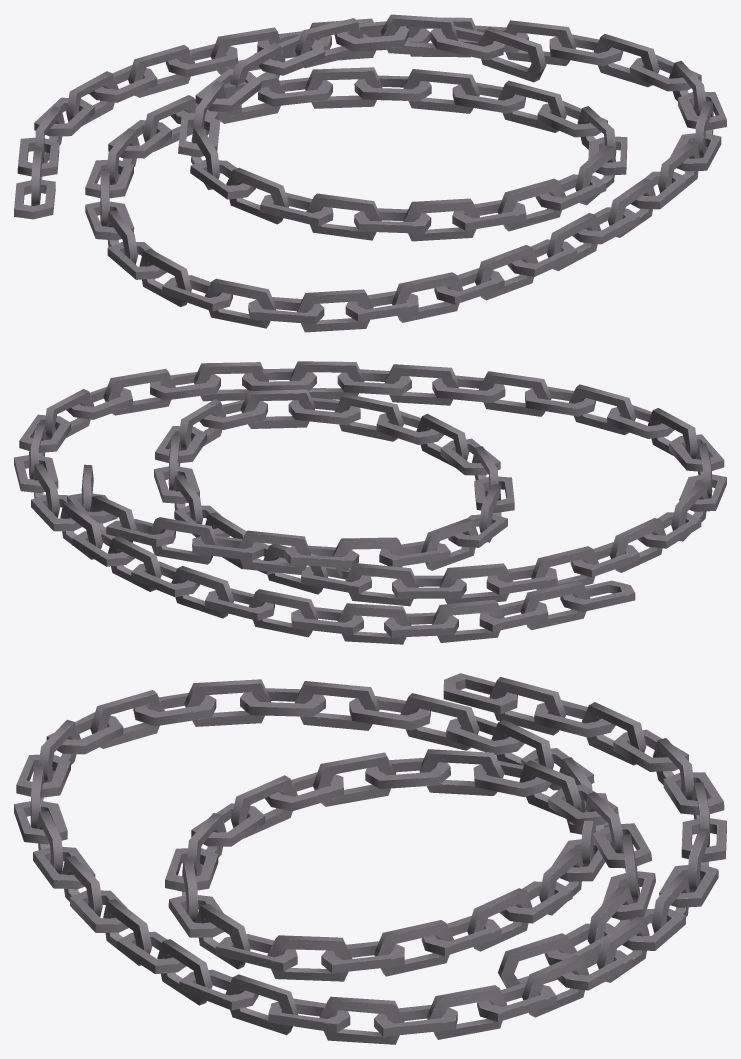
The model's file is fp_chain.glb.
3 views of the same model, one above another, from view 1: azimuth 30°, elevation 25°; view 2: azimuth 150°, elevation 25°; view 3: azimuth 270°, elevation 25° (orthographic). The views are drawn at different scales.
Parts seen in each view (by area): view 1: Chain_Coil; view 2: Chain_Coil; view 3: Chain_Coil.
Part boxes in pixels (bbox=[...]): Chain_Coil: bbox=[14, 14, 726, 332]; Chain_Coil: bbox=[14, 361, 726, 644]; Chain_Coil: bbox=[14, 673, 726, 1044].
Size of the model in its own units: 1.07 by 0.0871 by 0.9078.
1 material, 1 textured.
